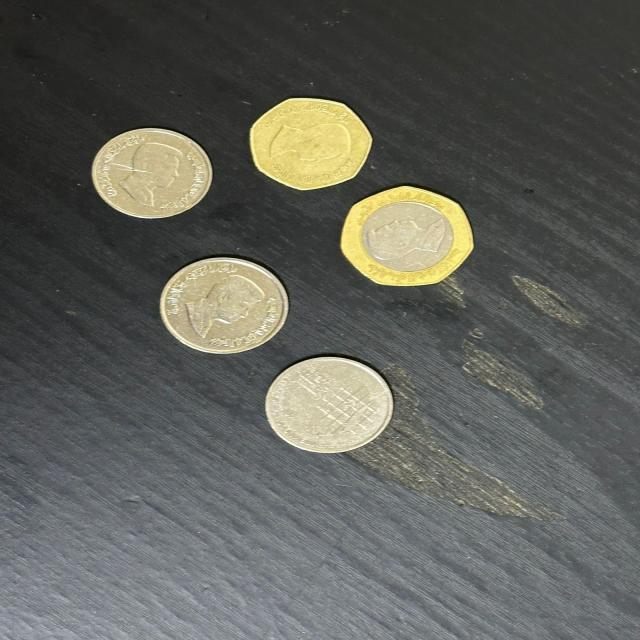10-coins: (258, 354, 394, 454)
25-coins: (242, 96, 374, 190)
5-coins: (160, 250, 288, 358), (88, 124, 216, 220)
50-coins: (342, 186, 474, 288)
